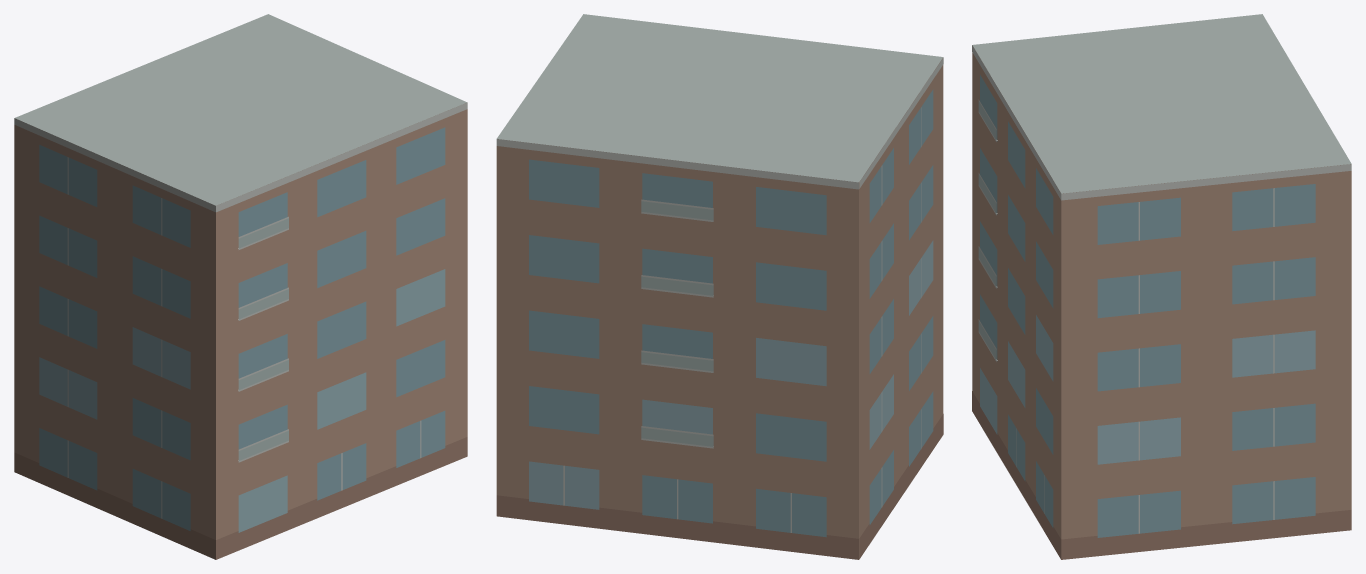
The model's file is survey-upis-33009008.glb.
3 views of the same model, side by side, from view 1: azimuth 30°, elevation 25°; view 2: azimuth 150°, elevation 25°; view 3: azimuth 270°, elevation 25° (orthographic). The views are drawn at different scales.
Visible parts, largest first — view 1: survey-upis-33009008.tmp; view 2: survey-upis-33009008.tmp; view 3: survey-upis-33009008.tmp.
Part boxes in pixels (box(x1,y1,x2,y2)): survey-upis-33009008.tmp: box(14, 14, 467, 559); survey-upis-33009008.tmp: box(496, 14, 943, 559); survey-upis-33009008.tmp: box(972, 14, 1351, 559).
Bounding box in the file's own units: 13.68 × 13 × 12.22.
